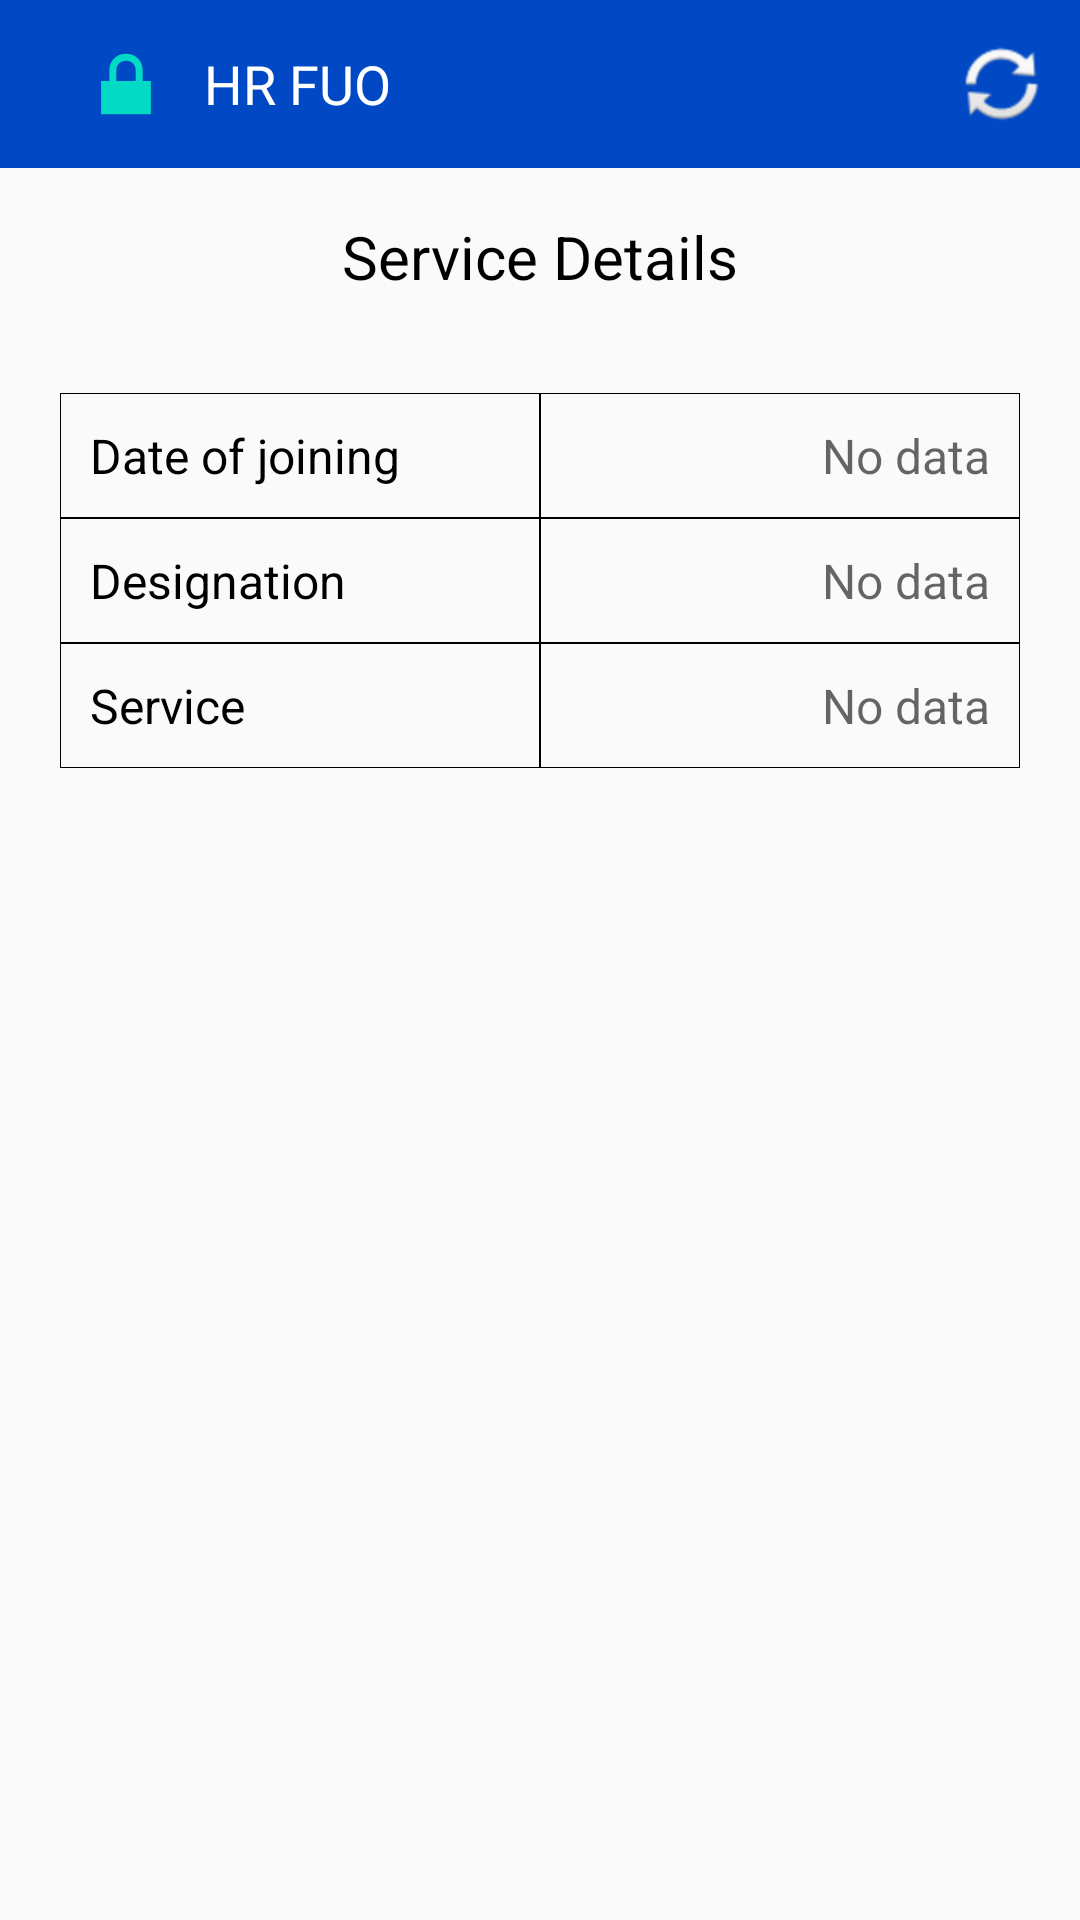

Icon click points for this 1080px×1920px phone screenshot, format point (x, y):
lock: point (126, 84)
popup sync: point (1002, 84)
